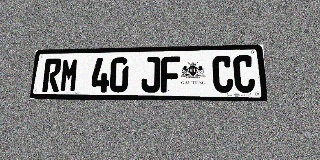0: (109, 57, 129, 92)
4: (91, 58, 110, 92)
C: (233, 55, 256, 93), (212, 55, 234, 93)
F: (161, 56, 180, 93)
J: (141, 57, 160, 92)
M: (59, 58, 79, 92)
R: (42, 58, 62, 92)
